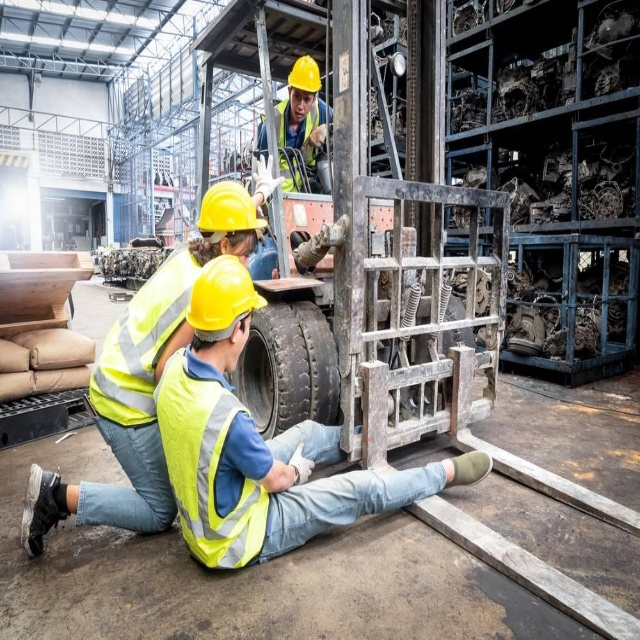Guantes: (257, 152, 283, 212), (289, 447, 313, 491)
